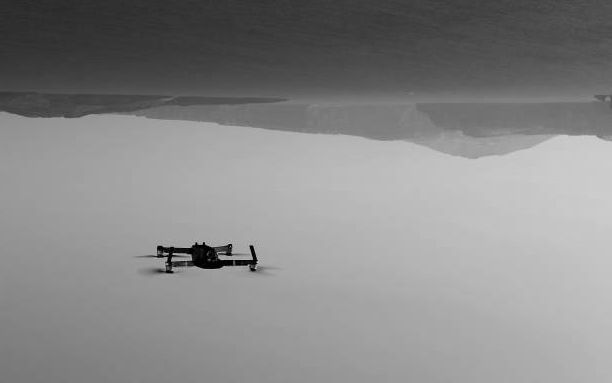Drone: (129, 236, 282, 282)
